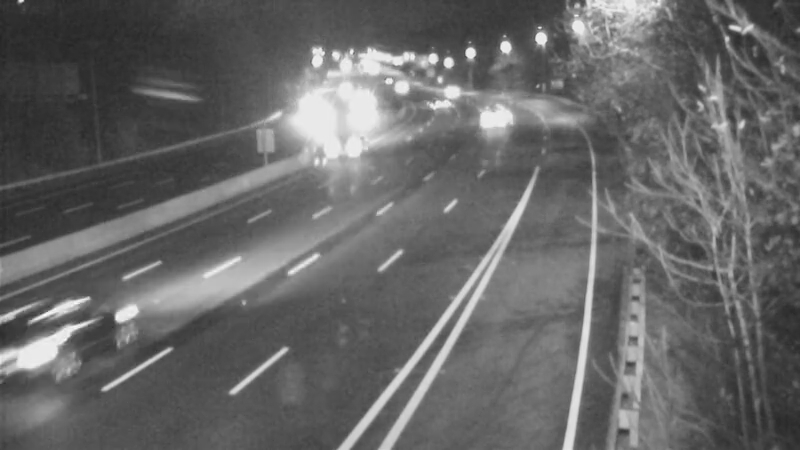vehicle: (4, 284, 114, 394), (378, 61, 428, 111), (426, 67, 476, 117), (418, 78, 468, 128), (473, 90, 523, 140), (324, 121, 374, 171), (292, 101, 342, 151)
